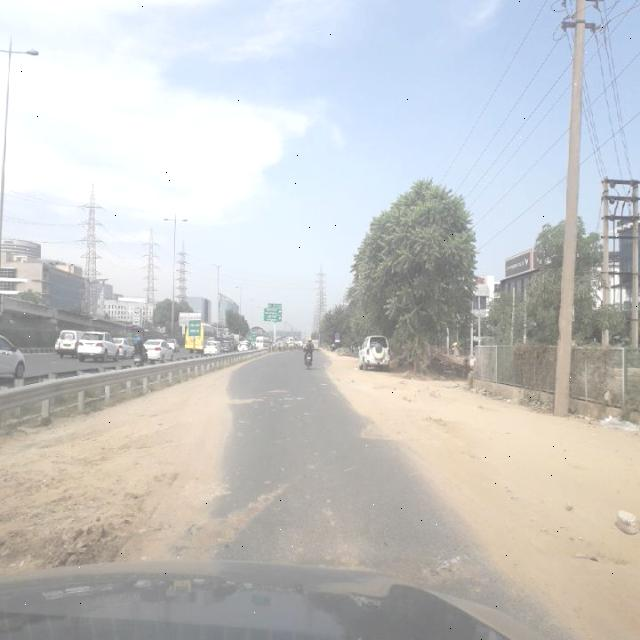D40: (350, 416, 403, 447)
